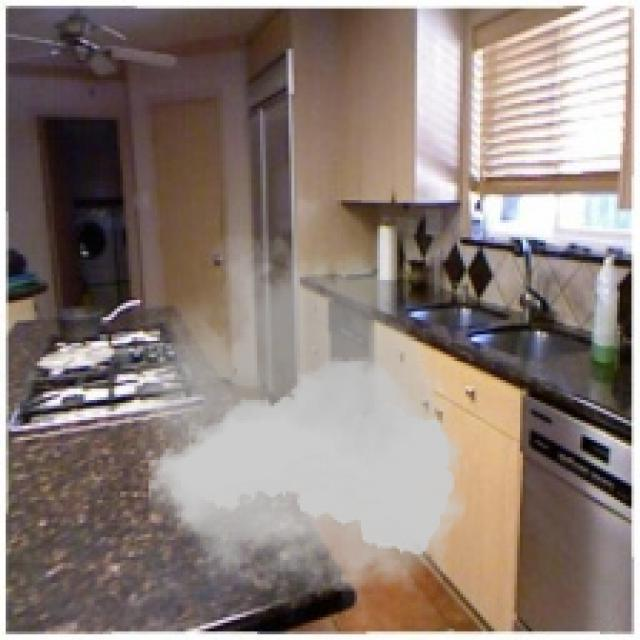Smoke: (126, 211, 477, 623)
